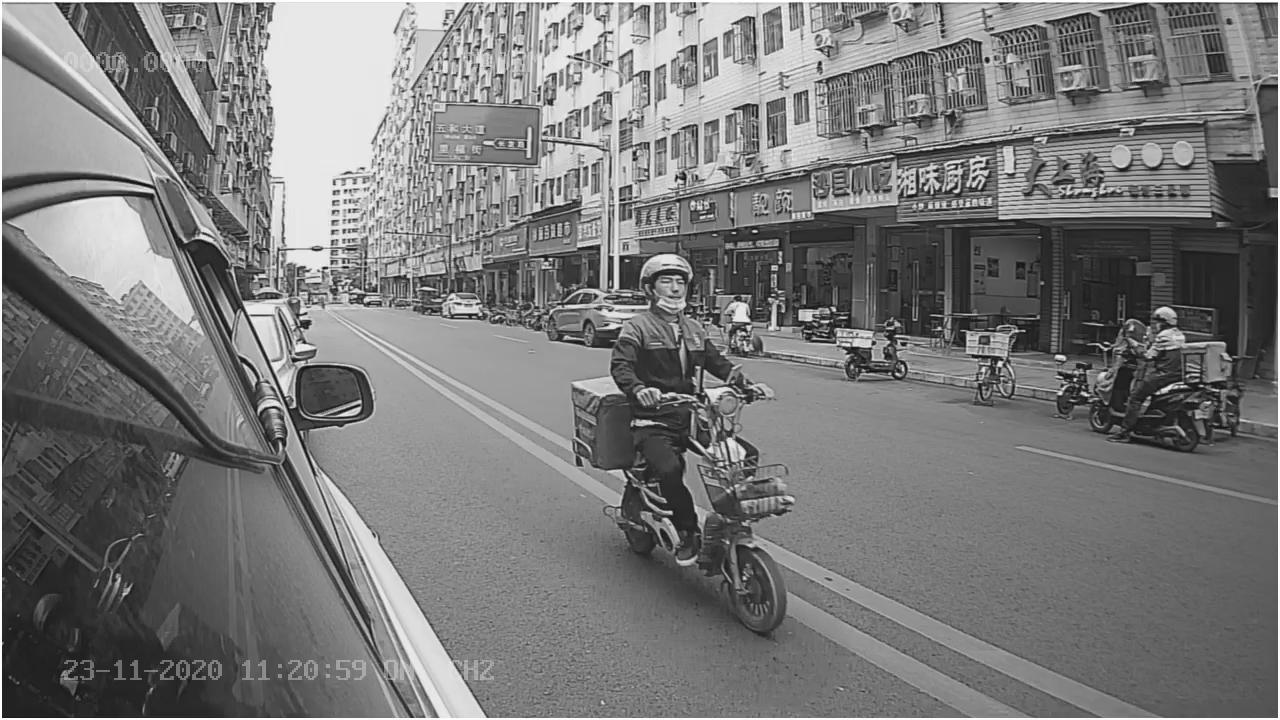person: (591, 249, 747, 384)
